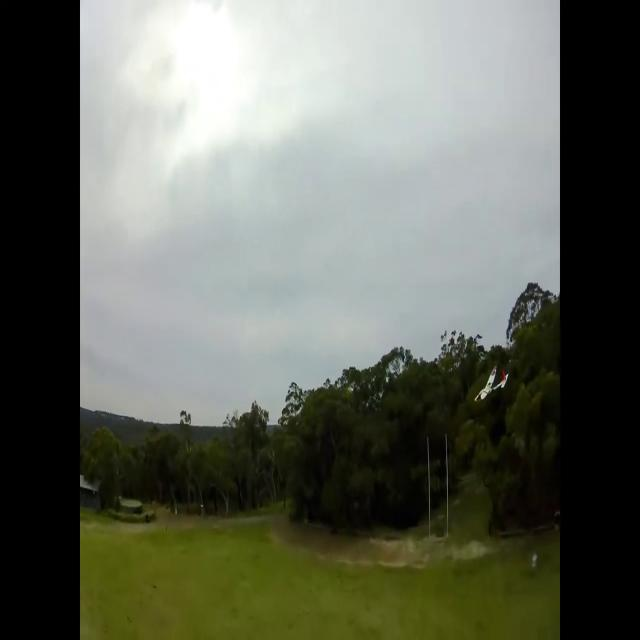iha: (471, 367, 509, 399)
